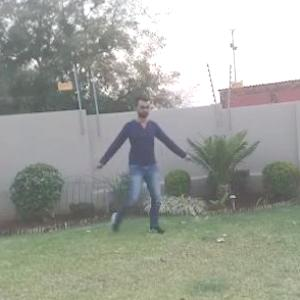land: (90, 100, 189, 231)
